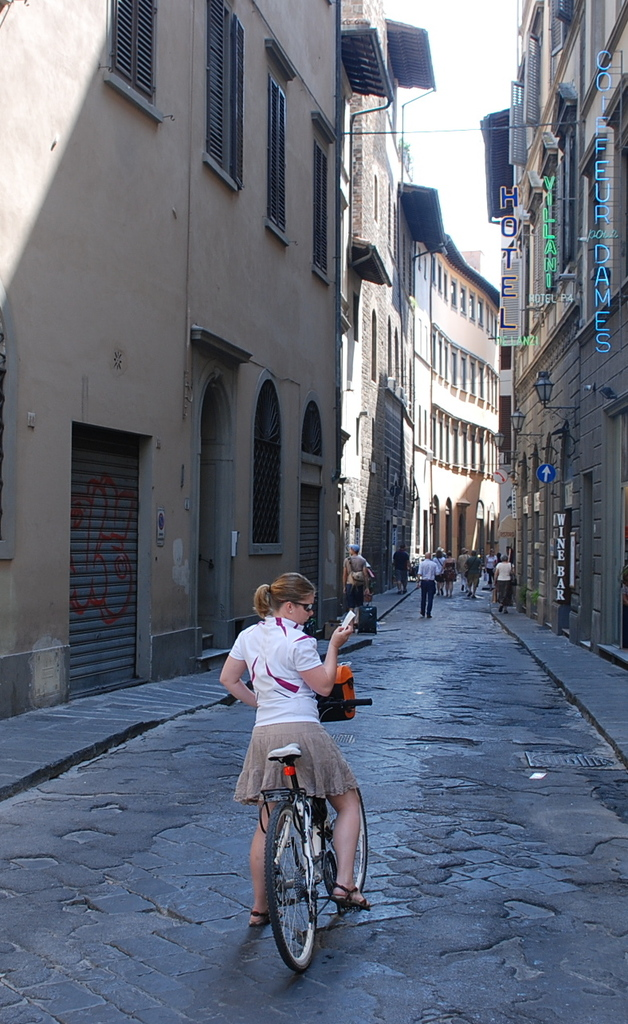Bike: (211, 695, 393, 990)
